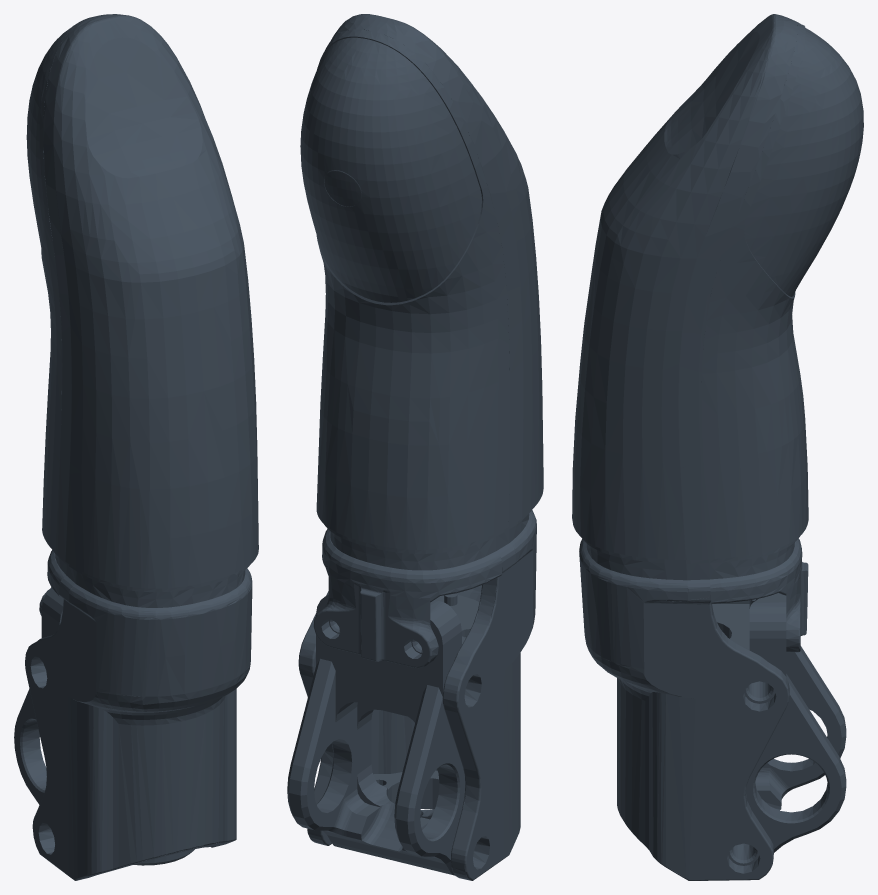
File: t_mcp_link.glb
The picture shows the model from 3 angles, left to right: view 1: azimuth 30°, elevation 25°; view 2: azimuth 150°, elevation 25°; view 3: azimuth 270°, elevation 25°; orthographic projection. The views are drawn at different scales.
Visible parts, largest first — view 1: t_mcp; view 2: t_mcp; view 3: t_mcp.
Part boxes in pixels (x1,y1,x2,y2): t_mcp: (14,14,258,880); t_mcp: (287,14,543,880); t_mcp: (572,14,863,880).
Bounding box in the file's own units: 0.022 × 0.099 × 0.0318.
